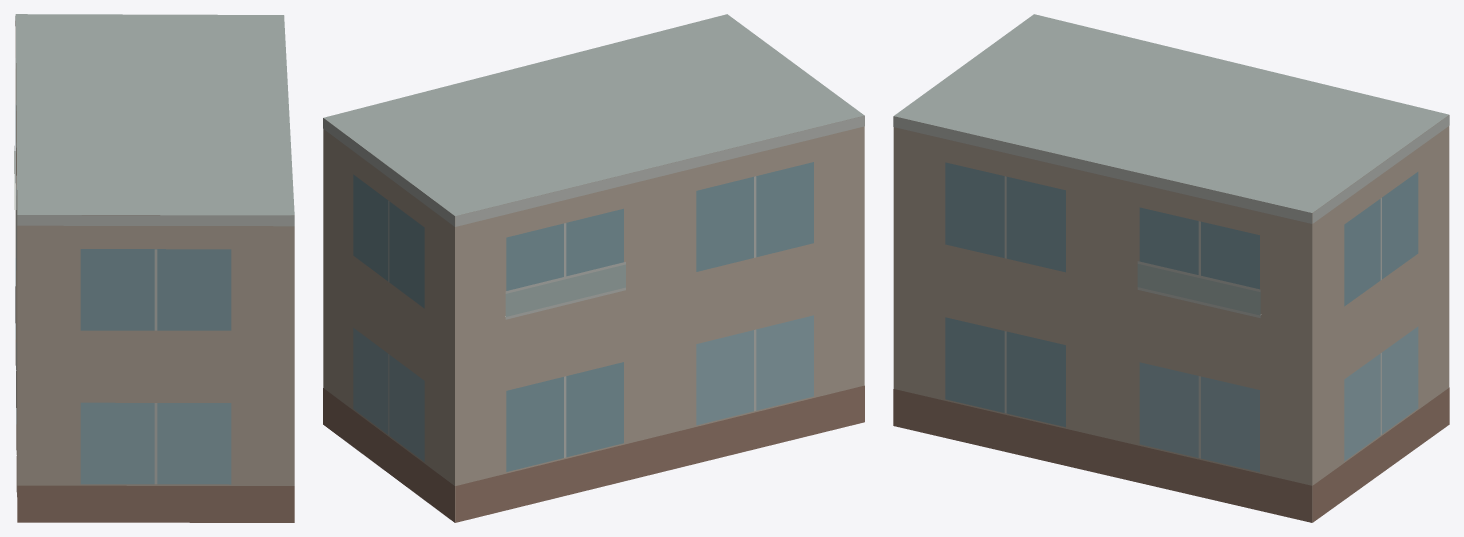
File: survey-upis-32496555.glb
The picture shows the model from 3 angles, left to right: view 1: azimuth 30°, elevation 25°; view 2: azimuth 150°, elevation 25°; view 3: azimuth 270°, elevation 25°; orthographic projection.
Parts seen in each view (by area): view 1: survey-upis-32496555.tmp; view 2: survey-upis-32496555.tmp; view 3: survey-upis-32496555.tmp.
Boxes of the visible parts, x1,y1,x2,y2 form: survey-upis-32496555.tmp: [14, 14, 294, 522]; survey-upis-32496555.tmp: [323, 14, 864, 522]; survey-upis-32496555.tmp: [893, 14, 1449, 522].
Bounding box in the file's own units: 9.52 × 6.9 × 11.23.
